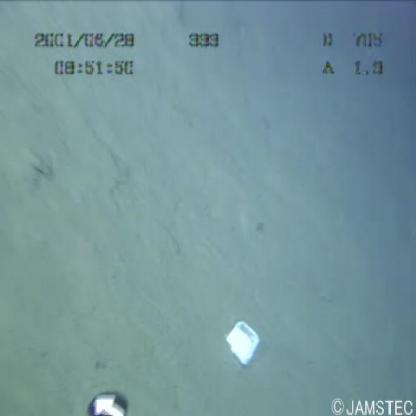Rov: (84, 382, 136, 416)
Rác: (217, 316, 266, 367)
